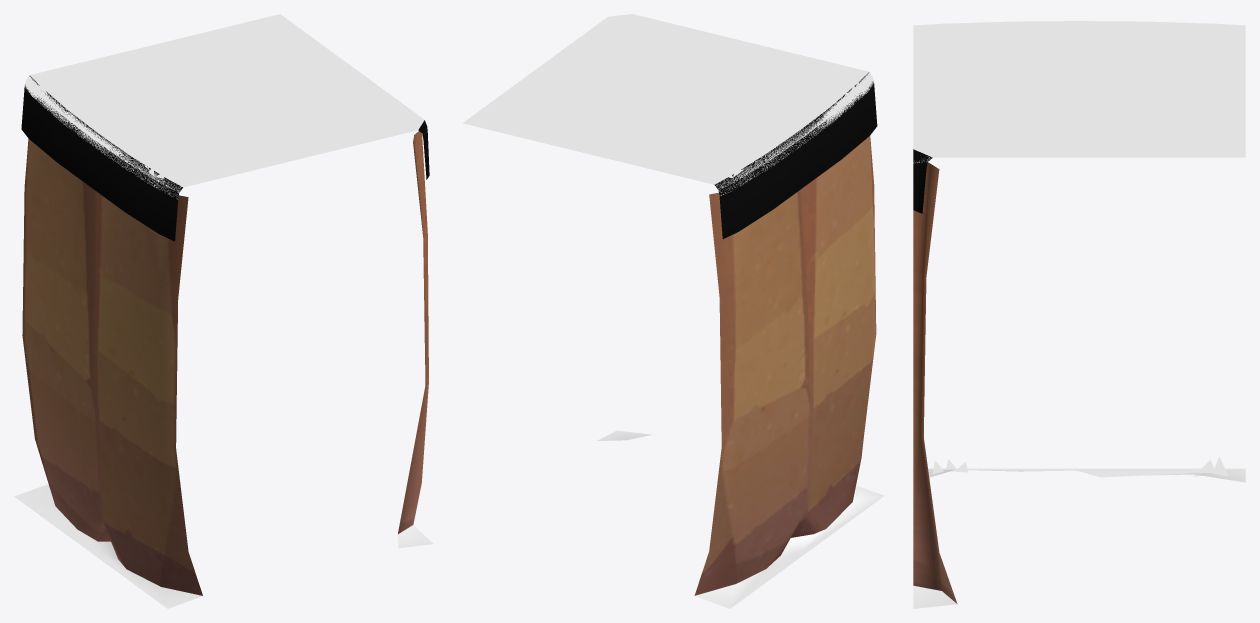
3 views of the same model, side by side, from view 1: azimuth 30°, elevation 25°; view 2: azimuth 150°, elevation 25°; view 3: azimuth 270°, elevation 25° (orthographic). The views are drawn at different scales.
Visible parts, largest first — view 1: CliffD__mCliff, GrassT__mGrass, GrassOP_1__mGrassCliffXlu, GrassB_1__mGrass; view 2: CliffD__mCliff, GrassT__mGrass, GrassOP_1__mGrassCliffXlu, GrassB_1__mGrass; view 3: GrassT__mGrass, CliffD__mCliff, GrassB_1__mGrass, GrassOP_1__mGrassCliffXlu, PGrassBD__mProcGrass.
Part boxes in pixels (box(x1,y1,x2,y2)): CliffD__mCliff: box(22, 131, 428, 595); GrassT__mGrass: box(25, 14, 424, 199); GrassOP_1__mGrassCliffXlu: box(21, 76, 429, 241); GrassB_1__mGrass: box(14, 484, 433, 608); CliffD__mCliff: box(694, 136, 876, 595); GrassT__mGrass: box(463, 14, 873, 195); GrassOP_1__mGrassCliffXlu: box(714, 72, 877, 238); GrassB_1__mGrass: box(597, 430, 884, 608); GrassT__mGrass: box(913, 21, 1245, 163); CliffD__mCliff: box(913, 162, 957, 603); GrassB_1__mGrass: box(913, 468, 1245, 608); GrassOP_1__mGrassCliffXlu: box(913, 149, 932, 213); PGrassBD__mProcGrass: box(932, 456, 1228, 476).
Bounding box in the file's own units: 10 × 15.3 × 10.
Materials: 4 (1 with a texture image).
